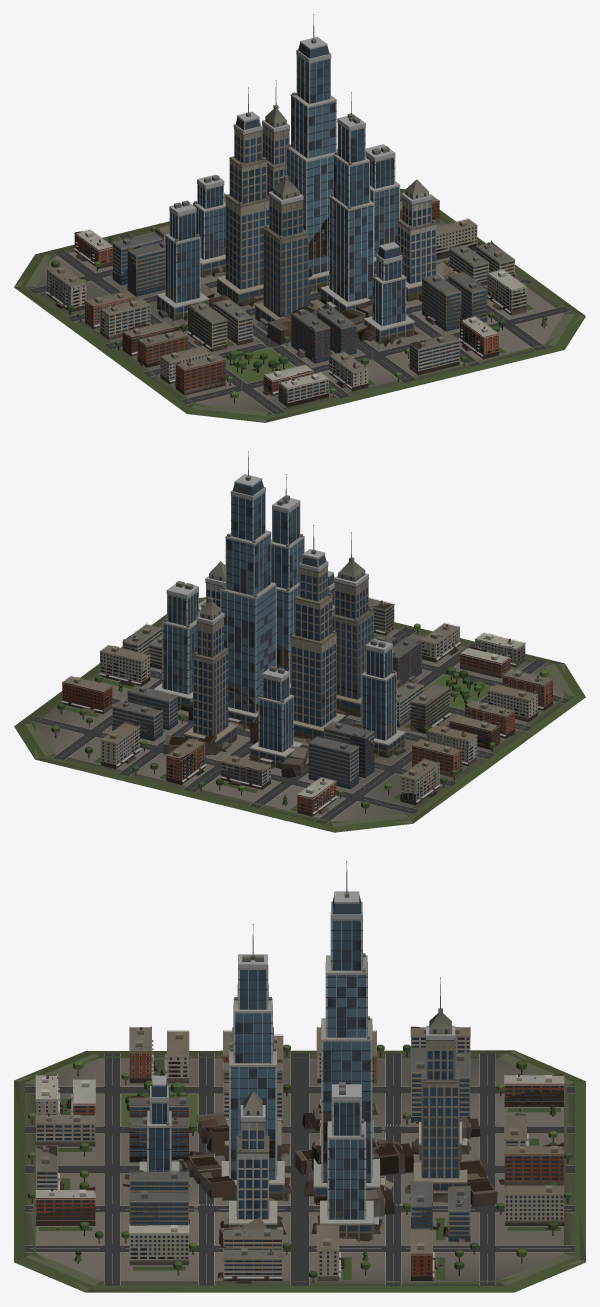
File: city_modern_metropolis_fractured.glb
The picture shows the model from 3 angles, top to bottom: view 1: azimuth 30°, elevation 25°; view 2: azimuth 150°, elevation 25°; view 3: azimuth 270°, elevation 25°; orthographic projection. The views are drawn at different scales.
Parts seen in each view (by area): view 1: city_modern_metropolis_DMG_mesh, city_modern_metropolis_RUIN_LOD0_mesh, city_modern_metropolis_FRAC_static_mesh, city_modern_metropolis_RUIN_LOD2_mesh, city_modern_metropolis_RUIN_LOD1_mesh, city_modern_metropolis_FRAC_02_mesh, city_modern_metropolis_FRAC_10_mesh, city_modern_metropolis_FRAC_01_mesh, city_modern_metropolis_FRAC_34_mesh, city_modern_metropolis_FRAC_18_mesh, city_modern_metropolis_FRAC_29_mesh, city_modern_metropolis_FRAC_07_mesh (+22 smaller); view 2: city_modern_metropolis_DMG_mesh, city_modern_metropolis_RUIN_LOD0_mesh, city_modern_metropolis_FRAC_static_mesh, city_modern_metropolis_RUIN_LOD1_mesh, city_modern_metropolis_RUIN_LOD2_mesh, city_modern_metropolis_FRAC_01_mesh, city_modern_metropolis_FRAC_02_mesh, city_modern_metropolis_FRAC_29_mesh, city_modern_metropolis_FRAC_24_mesh, city_modern_metropolis_FRAC_10_mesh, city_modern_metropolis_FRAC_00_mesh, city_modern_metropolis_FRAC_08_mesh (+25 smaller); view 3: city_modern_metropolis_DMG_mesh, city_modern_metropolis_RUIN_LOD1_mesh, city_modern_metropolis_RUIN_LOD0_mesh, city_modern_metropolis_FRAC_static_mesh, city_modern_metropolis_RUIN_LOD2_mesh, city_modern_metropolis_FRAC_02_mesh, city_modern_metropolis_FRAC_01_mesh, city_modern_metropolis_FRAC_38_mesh, city_modern_metropolis_FRAC_08_mesh, city_modern_metropolis_FRAC_18_mesh, city_modern_metropolis_FRAC_14_mesh, city_modern_metropolis_FRAC_07_mesh (+20 smaller).
Part boxes in pixels (x1,y1,x2,y2): city_modern_metropolis_DMG_mesh: [26, 80, 573, 415]; city_modern_metropolis_RUIN_LOD0_mesh: [20, 189, 580, 419]; city_modern_metropolis_FRAC_static_mesh: [14, 189, 585, 422]; city_modern_metropolis_RUIN_LOD2_mesh: [14, 188, 585, 422]; city_modern_metropolis_RUIN_LOD1_mesh: [30, 198, 569, 406]; city_modern_metropolis_FRAC_02_mesh: [275, 14, 336, 141]; city_modern_metropolis_FRAC_10_mesh: [263, 194, 308, 291]; city_modern_metropolis_FRAC_01_mesh: [270, 104, 374, 216]; city_modern_metropolis_FRAC_34_mesh: [418, 286, 545, 371]; city_modern_metropolis_FRAC_18_mesh: [397, 179, 458, 283]; city_modern_metropolis_FRAC_29_mesh: [112, 232, 165, 296]; city_modern_metropolis_FRAC_07_mesh: [329, 183, 374, 256]; city_modern_metropolis_DMG_mesh: [26, 532, 573, 825]; city_modern_metropolis_RUIN_LOD0_mesh: [17, 599, 581, 830]; city_modern_metropolis_FRAC_static_mesh: [14, 627, 585, 832]; city_modern_metropolis_RUIN_LOD1_mesh: [29, 612, 570, 814]; city_modern_metropolis_RUIN_LOD2_mesh: [14, 597, 585, 832]; city_modern_metropolis_FRAC_01_mesh: [186, 567, 276, 653]; city_modern_metropolis_FRAC_02_mesh: [210, 451, 271, 596]; city_modern_metropolis_FRAC_29_mesh: [298, 721, 384, 788]; city_modern_metropolis_FRAC_24_mesh: [464, 669, 552, 738]; city_modern_metropolis_FRAC_10_mesh: [332, 572, 374, 673]; city_modern_metropolis_FRAC_00_mesh: [227, 639, 276, 728]; city_modern_metropolis_FRAC_08_mesh: [271, 474, 354, 576]; city_modern_metropolis_DMG_mesh: [25, 977, 574, 1285]; city_modern_metropolis_RUIN_LOD1_mesh: [32, 1026, 563, 1285]; city_modern_metropolis_RUIN_LOD0_mesh: [17, 1026, 582, 1290]; city_modern_metropolis_FRAC_static_mesh: [14, 1051, 585, 1292]; city_modern_metropolis_RUIN_LOD2_mesh: [14, 1050, 585, 1292]; city_modern_metropolis_FRAC_02_mesh: [325, 861, 440, 1017]; city_modern_metropolis_FRAC_01_mesh: [321, 1007, 445, 1110]; city_modern_metropolis_FRAC_38_mesh: [216, 1226, 340, 1281]; city_modern_metropolis_FRAC_08_mesh: [233, 924, 272, 1047]; city_modern_metropolis_FRAC_18_mesh: [167, 1091, 269, 1199]; city_modern_metropolis_FRAC_14_mesh: [421, 1019, 459, 1146]; city_modern_metropolis_FRAC_07_mesh: [229, 1043, 277, 1122].
Bounding box in the file's own units: 366 × 235 × 366.
